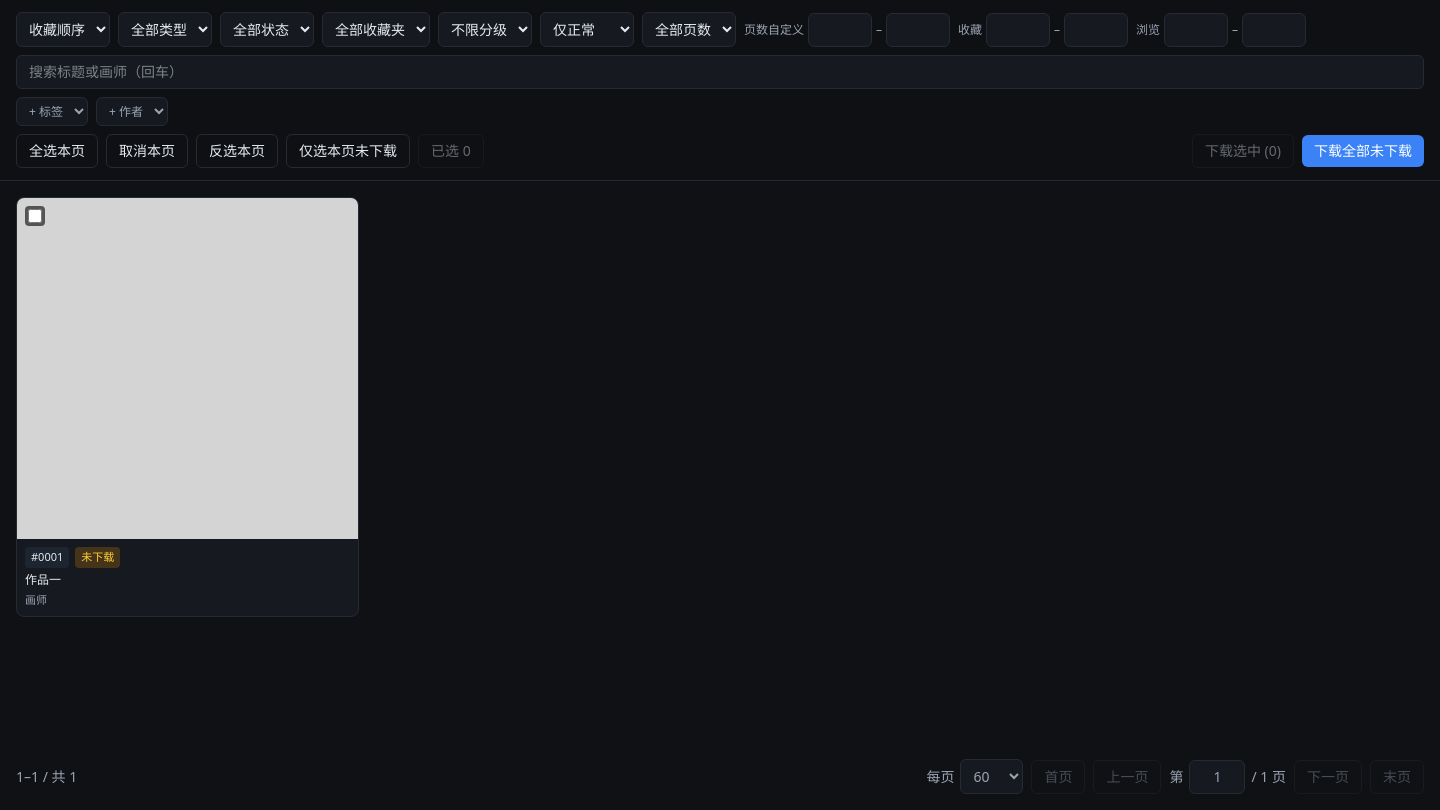
Gallery › keeps selection across pages (selection context)
expect the text "作品一" is shown: met, box [25, 570, 61, 588]
Click the checkbox: (35, 216) [28, 209, 42, 223]
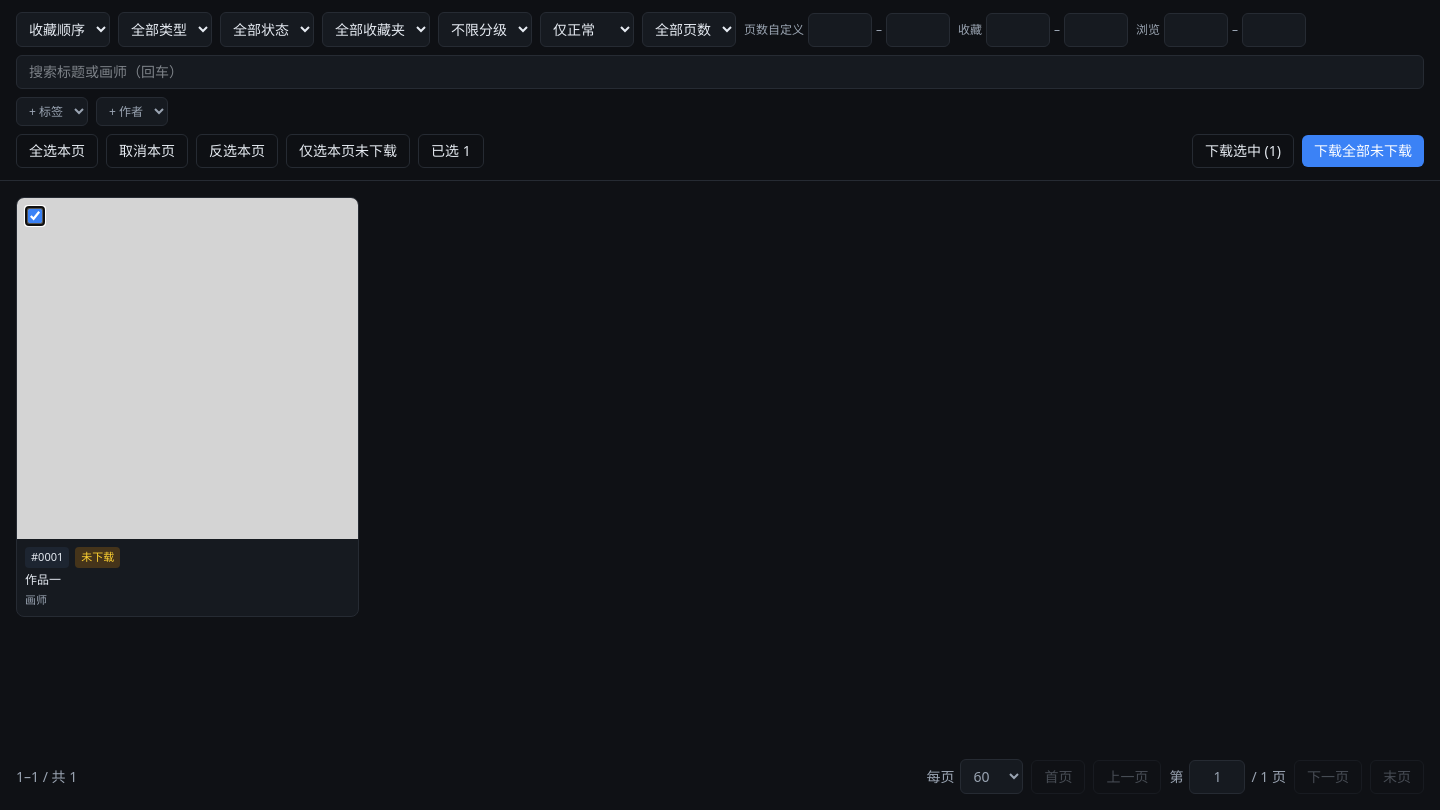
expect the button "下载选中 (1)" is shown: met, box [1192, 134, 1294, 168]
